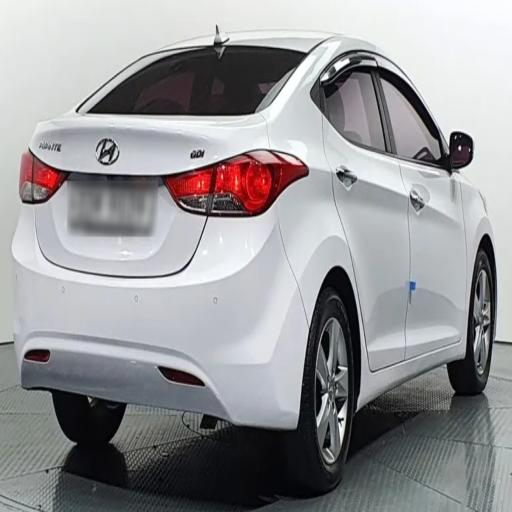normal: (6, 4, 508, 490)
